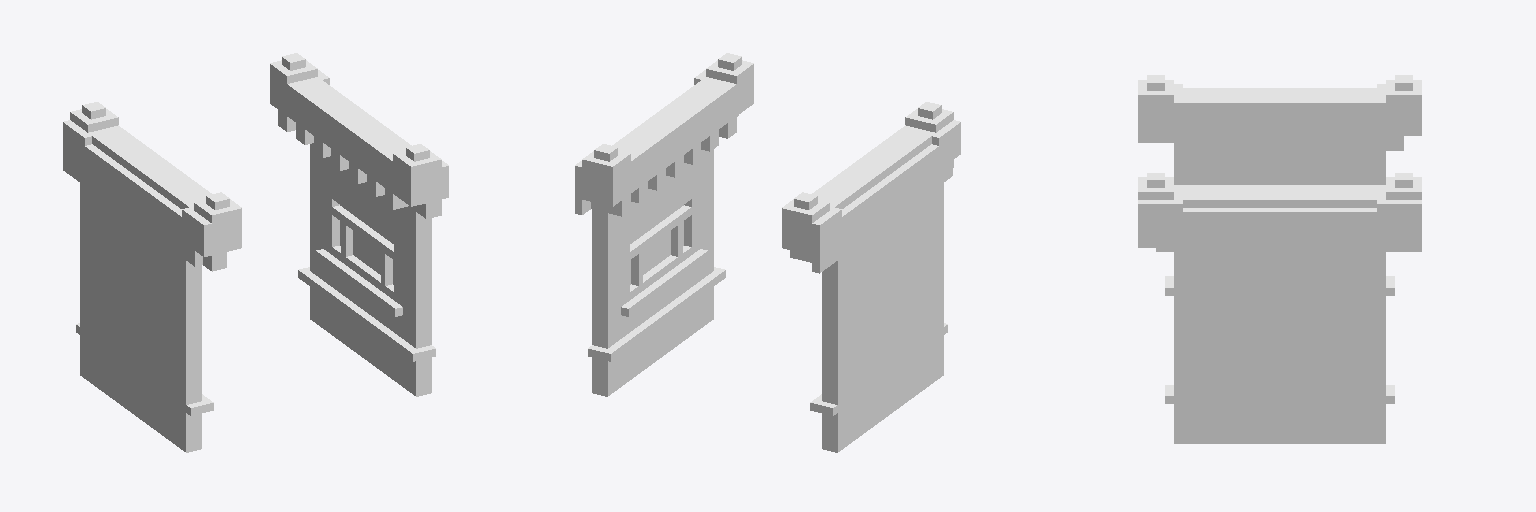
The model's file is tile_4_middle.obj.
The picture shows the model from 3 angles: view 1: azimuth 30°, elevation 25°; view 2: azimuth 150°, elevation 25°; view 3: azimuth 270°, elevation 25°; orthographic projection.
Parts seen in each view (by area): view 1: object 1; view 2: object 1; view 3: object 1.
Part boxes in pixels (left/top/right/bottom): object 1: left=63, top=53, right=448, bottom=452; object 1: left=575, top=53, right=960, bottom=452; object 1: left=1138, top=75, right=1421, bottom=443.
Bounding box in the file's own units: 3.2 × 3.2 × 3.2.